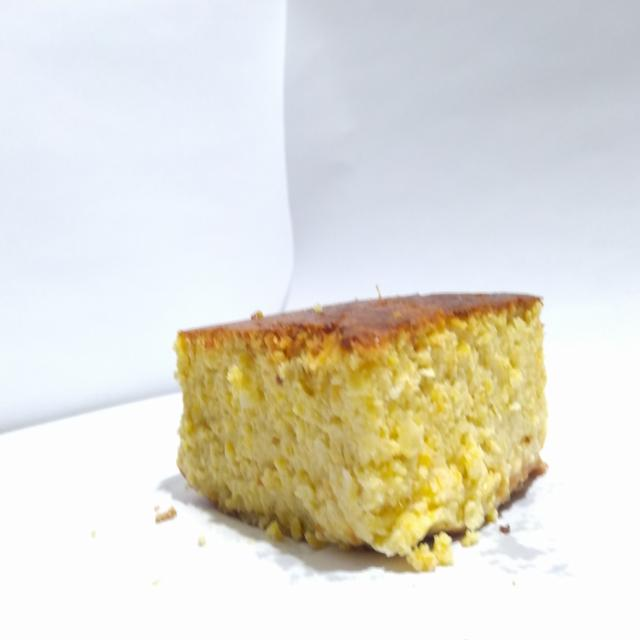Food: (160, 269, 554, 580)
